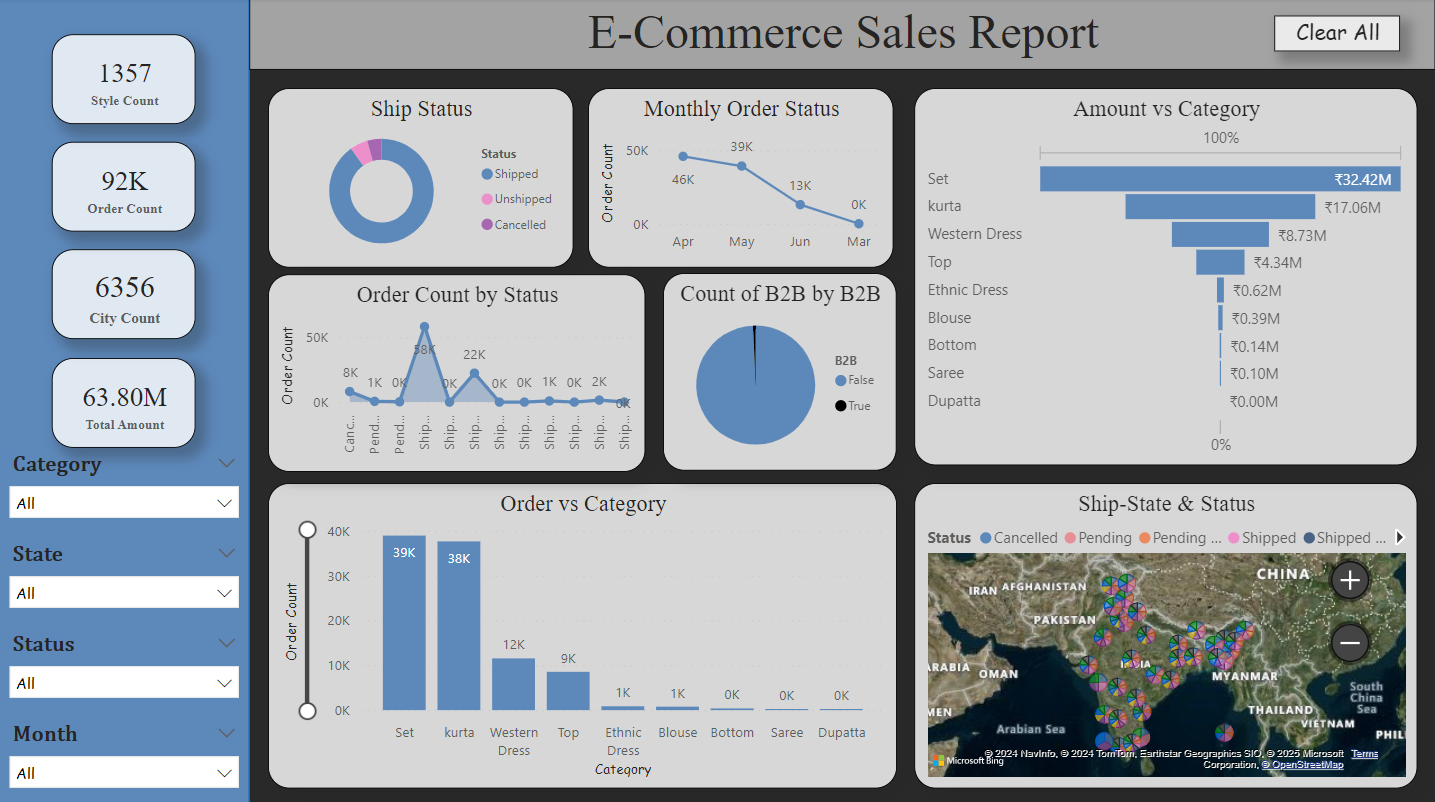

The page's visual inventory and layout, read from the dashboard file:
{"tool":"powerbi","page":{"name":"Page 1","canvas":[1280,720],"ordinal":0},"visuals":[{"type":"shape","box":[0,0,224,720],"z":0},{"type":"slicer","fields":{"Values":["reportfile.Category"]},"box":[0,400,224,80],"z":1000},{"type":"slicer","fields":{"Values":["reportfile.ship-state"]},"box":[0,480,224,80],"z":2000},{"type":"slicer","fields":{"Values":["reportfile.Status"]},"box":[0,560,224,80],"z":3000},{"type":"slicer","fields":{"Values":["Calendar.Month"]},"box":[0,640,224,80],"z":4000},{"type":"columnChart","title":"Order vs Category","fields":{"Category":["reportfile.Category"],"Y":["CountNonNull(reportfile.Order ID)"]},"box":[240,432,560,272],"z":5000},{"type":"donutChart","title":"Ship Status","fields":{"Category":["reportfile.Courier Status"],"Y":["CountNonNull(reportfile.Courier Status)"]},"box":[240,80,272,160],"z":6000},{"type":"card","fields":{"Values":["reportfile.Total Amount"]},"box":[48,320,128,80],"z":7000},{"type":"card","fields":{"Values":["reportfile.City Count"]},"box":[48,224,128,80],"z":8000},{"type":"card","fields":{"Values":["reportfile.Order Count"]},"box":[48,128,128,80],"z":9000},{"type":"lineChart","title":"Monthly Order Status","fields":{"Category":["reportfile.Month Year"],"Y":["reportfile.Monthly Order Count"]},"box":[525,80,272,160],"z":10000},{"type":"textbox","box":[224,0,1056,64],"z":11000},{"type":"card","fields":{"Values":["reportfile.Style Count"]},"box":[48,32,128,80],"z":13000},{"type":"areaChart","fields":{"Category":["reportfile.Status"],"Y":["reportfile.Order Count"]},"box":[240,246,336,176],"z":14000},{"type":"pieChart","fields":{"Category":["reportfile.B2B"],"Y":["CountNonNull(reportfile.B2B)"]},"box":[592,245,208,176],"z":15000},{"type":"map","fields":{"Category":["reportfile.ship-state"],"Series":["reportfile.Status"]},"box":[816,432,448,272],"z":15001},{"type":"funnel","title":"Amount vs Category","fields":{"Category":["reportfile.Category"],"Y":["Sum(reportfile.Amount)"]},"box":[816,80,448,336],"z":15002},{"type":"actionButton","title":"Clear All","box":[1136,16,112,32],"z":15003}]}

Visuals, with their boxes in screenshot pixels (x1, y1, x2, y2), scaled from the page's 1280x720 canvas onto the 1435x802 screenshot:
shape: 0/0/251/801
slicer - reportfile.Category: 0/446/251/535
slicer - reportfile.ship-state: 0/535/251/624
slicer - reportfile.Status: 0/624/251/713
slicer - Calendar.Month: 0/713/251/801
"Order vs Category" columnChart: 269/481/897/784
"Ship Status" donutChart: 269/89/574/267
card - reportfile.Total Amount: 54/356/197/446
card - reportfile.City Count: 54/250/197/339
card - reportfile.Order Count: 54/143/197/232
"Monthly Order Status" lineChart: 589/89/894/267
textbox: 251/0/1434/71
card - reportfile.Style Count: 54/36/197/125
areaChart - reportfile.Status x reportfile.Order Count: 269/274/646/470
pieChart - reportfile.B2B x CountNonNull(reportfile.B2B): 664/273/897/469
map - reportfile.ship-state x reportfile.Status: 915/481/1417/784
"Amount vs Category" funnel: 915/89/1417/463
"Clear All" actionButton: 1274/18/1399/53
